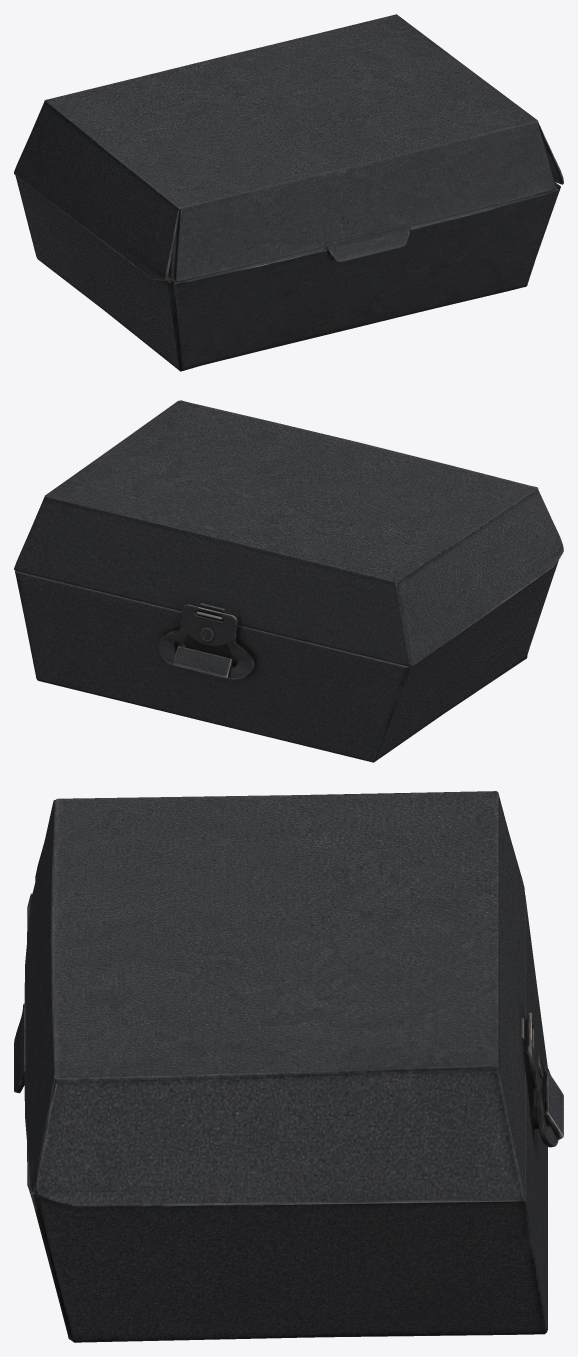
Rendered from bbq_box_closed.glb.
The picture shows the model from 3 angles, top to bottom: view 1: azimuth 30°, elevation 25°; view 2: azimuth 150°, elevation 25°; view 3: azimuth 270°, elevation 25°; orthographic projection. The views are drawn at different scales.
Visible parts, largest first — view 1: tripo_node_abde4ba3-bc7c-476e-b3f1-852d280070c8; view 2: tripo_node_abde4ba3-bc7c-476e-b3f1-852d280070c8; view 3: tripo_node_abde4ba3-bc7c-476e-b3f1-852d280070c8.
Boxes of the visible parts, x1=… form: tripo_node_abde4ba3-bc7c-476e-b3f1-852d280070c8: x1=14, y1=14, x2=563, y2=371; tripo_node_abde4ba3-bc7c-476e-b3f1-852d280070c8: x1=14, y1=400, x2=563, y2=762; tripo_node_abde4ba3-bc7c-476e-b3f1-852d280070c8: x1=14, y1=791, x2=563, y2=1342.
Bounding box in the file's own units: 0.9995 × 0.4146 × 0.7388.
1 material, 1 textured.
